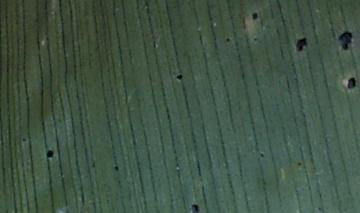tarspot: (339, 31, 352, 52), (296, 37, 309, 52), (347, 77, 356, 90), (190, 203, 200, 213), (45, 148, 54, 159), (176, 73, 184, 81), (252, 12, 259, 21), (112, 165, 120, 172), (252, 35, 259, 43), (259, 151, 265, 159), (225, 36, 231, 43), (297, 160, 302, 167), (317, 205, 322, 212), (22, 137, 27, 143)
